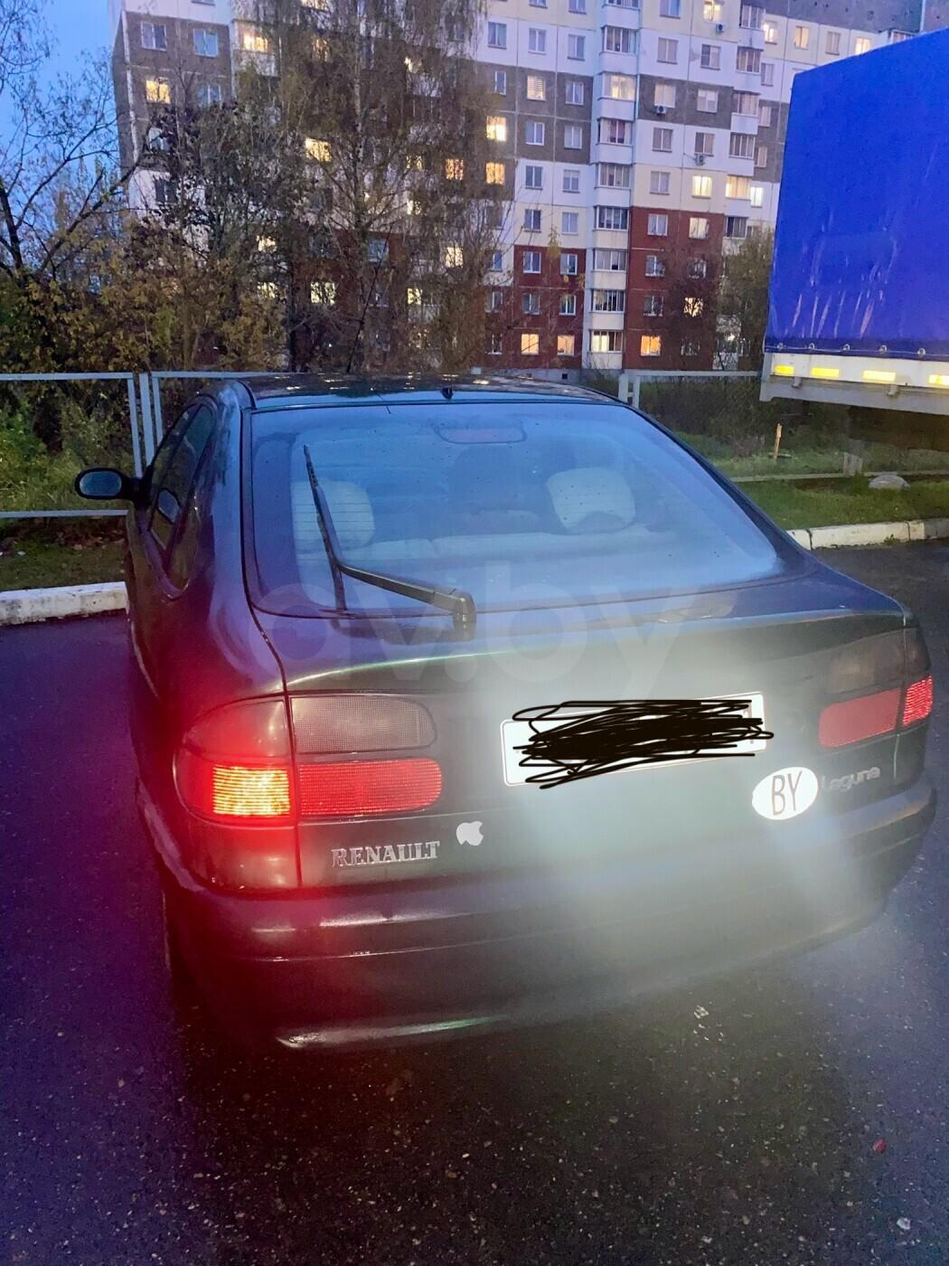Lahuna_1993-1999: (72, 364, 949, 1087)
